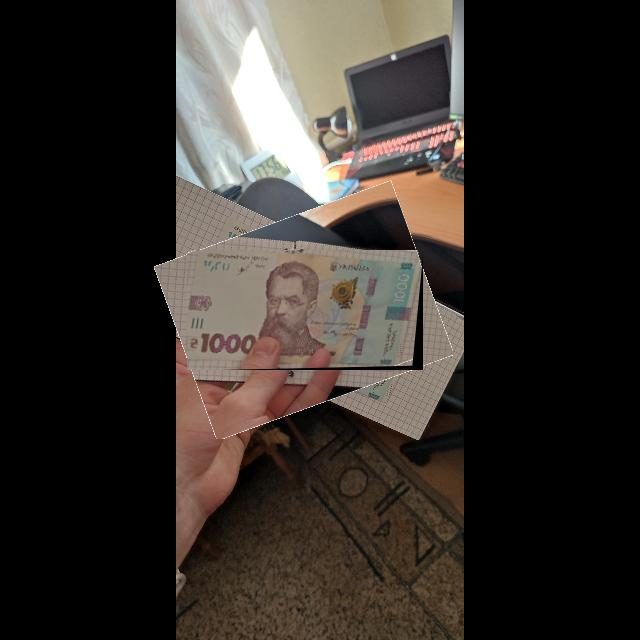1000uah: (187, 251, 423, 369)
